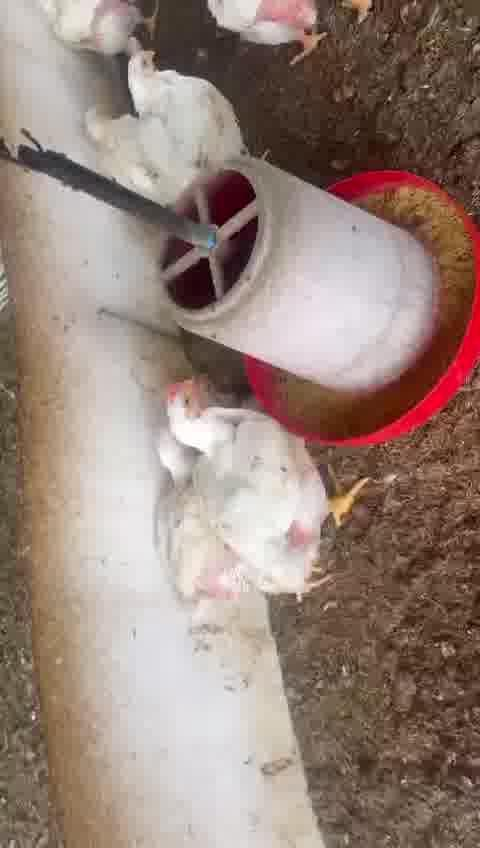Normal: (165, 377, 371, 591), (124, 50, 265, 158)
